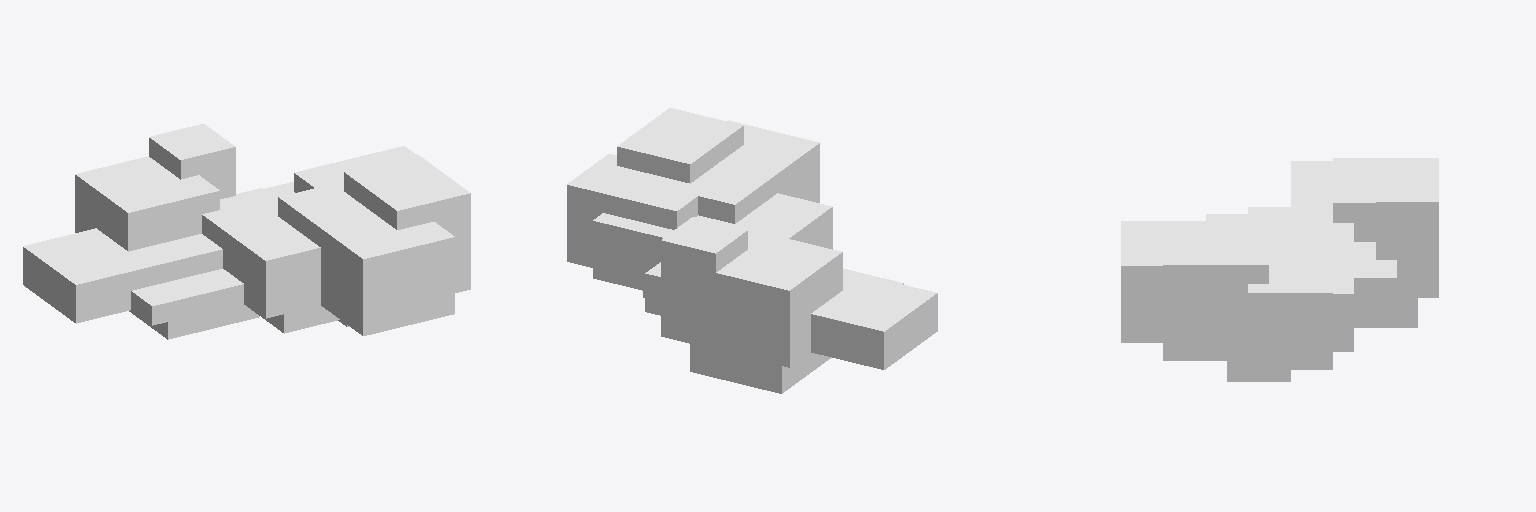
The model's file is stone3.obj.
3 views of the same model, side by side, from view 1: azimuth 30°, elevation 25°; view 2: azimuth 150°, elevation 25°; view 3: azimuth 270°, elevation 25° (orthographic).
Bounding box in the file's own units: 19 × 7 × 15.